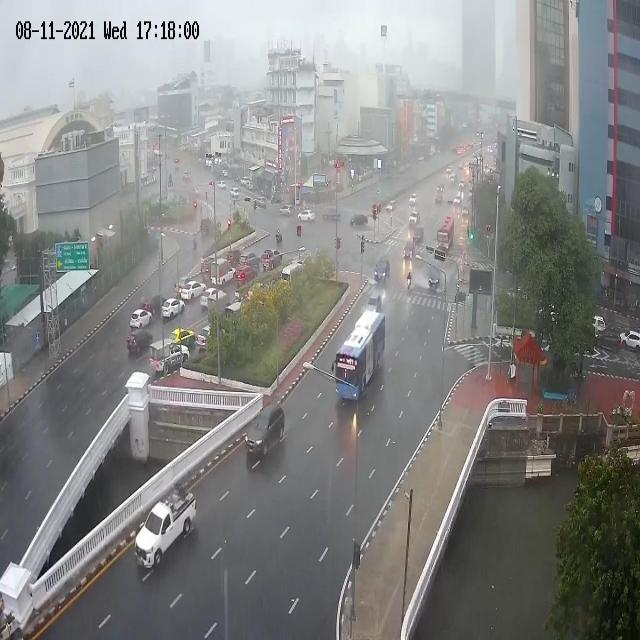Bus: (331, 310, 385, 402), (437, 215, 455, 250)
Car: (246, 402, 286, 456), (127, 330, 153, 356), (200, 286, 227, 310), (594, 331, 622, 353), (178, 281, 206, 302), (144, 292, 166, 317), (168, 327, 196, 346), (161, 297, 185, 319), (260, 248, 282, 271), (130, 308, 152, 330), (235, 265, 258, 285), (620, 330, 640, 352), (194, 326, 212, 348), (375, 256, 390, 280), (237, 253, 260, 267), (365, 294, 382, 312), (175, 278, 194, 294), (350, 214, 368, 228), (298, 210, 315, 222), (404, 240, 414, 260), (226, 250, 240, 264), (413, 228, 423, 244), (280, 205, 292, 217), (256, 197, 267, 209), (231, 188, 239, 200), (218, 180, 226, 189)
Cycle: (275, 233, 282, 244), (406, 277, 411, 291)
Truck: (135, 480, 197, 568), (149, 338, 190, 375), (210, 258, 237, 286)
Van: (281, 263, 303, 282)
